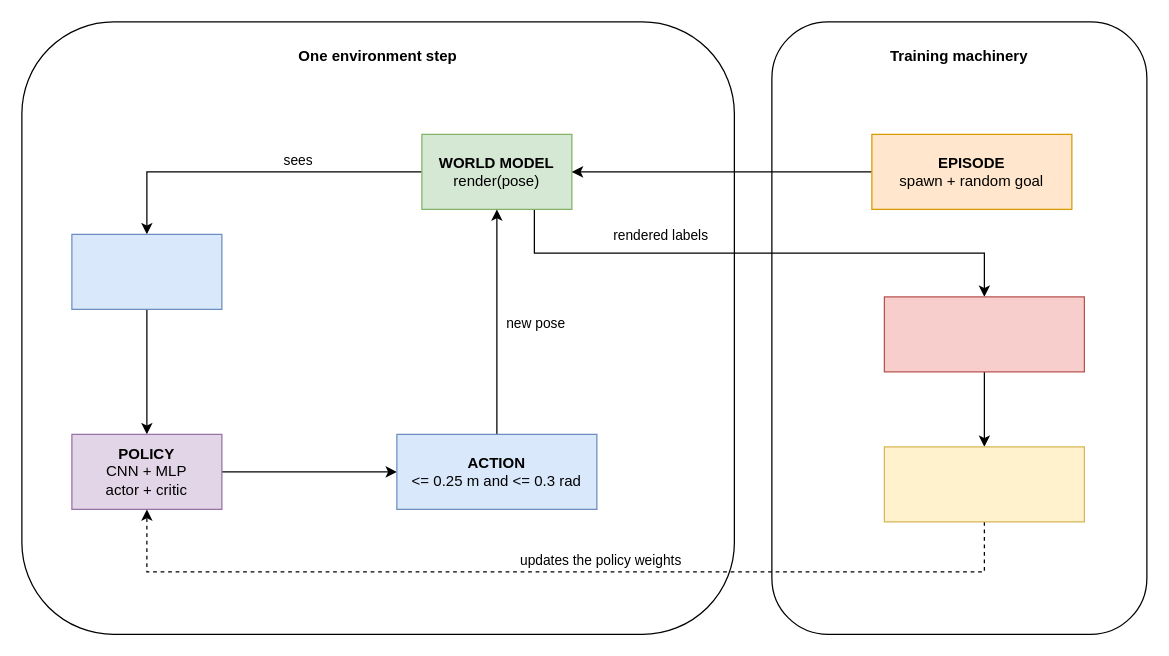
The diagram is 1169 pixels wide and 656 high, and some of its shapes have lost their labels. The shapes that lost their labels are listed below. From the top down, each one's centre as x and y in pixels, then its label:
the point at 146,271: OBSERVATION RGB + goal vector (egocentric)
the point at 983,334: REWARD sum of 7 terms <= 0 + 50 at goal
the point at 983,484: PPO advantage + clip KL leash and BC start
